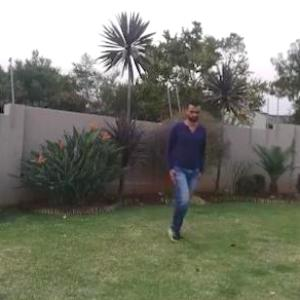follow: (166, 94, 204, 227)
